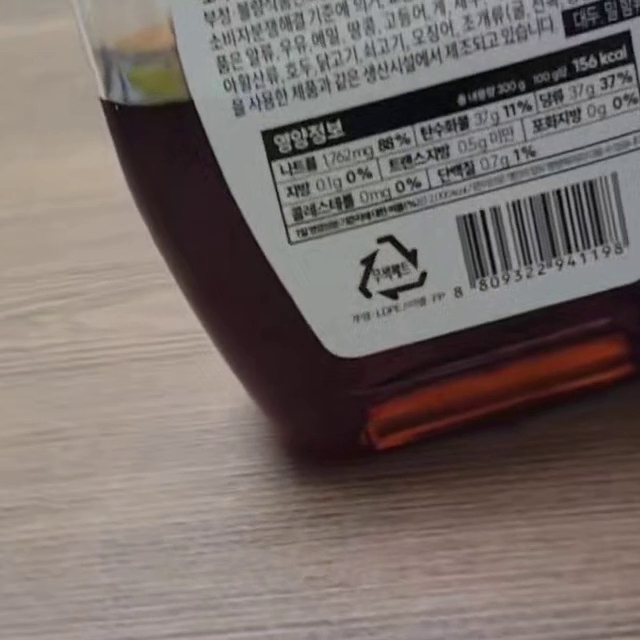ColorlessPet: (357, 234, 430, 303)
